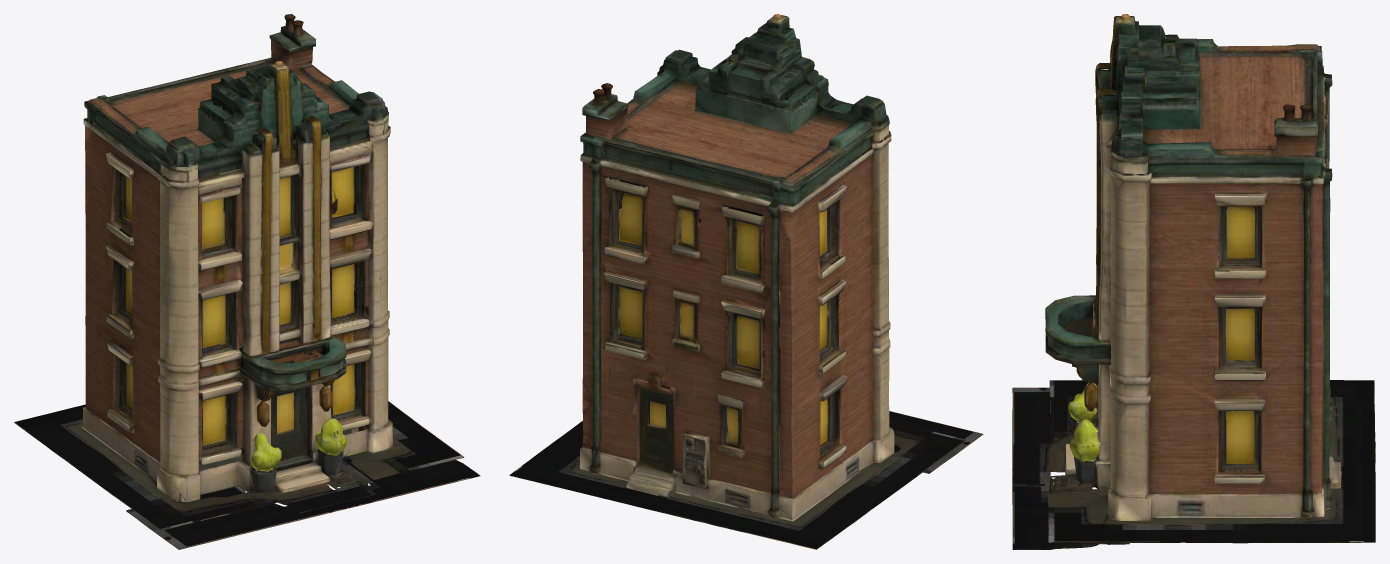
3 renders of one model, left to right at view 1: azimuth 30°, elevation 25°; view 2: azimuth 150°, elevation 25°; view 3: azimuth 270°, elevation 25°, orthographic. The views are drawn at different scales.
Parts seen in each view (by area): view 1: expansion__tower_3__native_mobile; view 2: expansion__tower_3__native_mobile; view 3: expansion__tower_3__native_mobile.
Part boxes in pixels (x1,y1,x2,y2): expansion__tower_3__native_mobile: (14, 14, 480, 549); expansion__tower_3__native_mobile: (509, 14, 983, 549); expansion__tower_3__native_mobile: (1012, 14, 1375, 549).
Size of the model in its own units: 0.7674 by 1 by 0.7252.
1 material, 1 textured.
